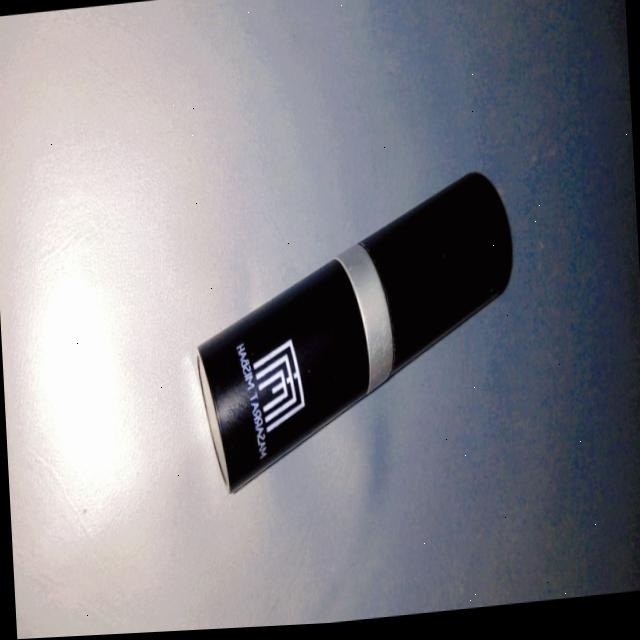lip stick: (172, 148, 552, 535)
